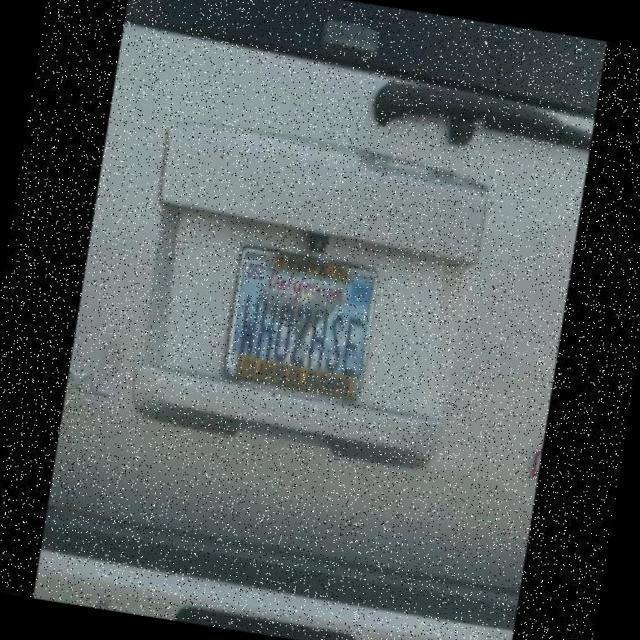license_plate: (220, 244, 384, 404)
